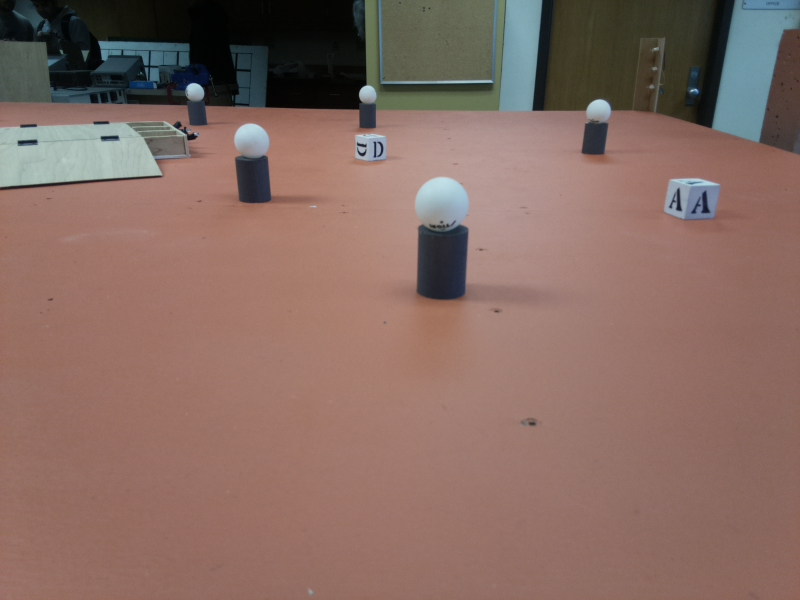blockD: (354, 133, 389, 163)
obstacle: (412, 176, 471, 302), (232, 121, 274, 204), (580, 99, 612, 156), (185, 81, 207, 127), (358, 83, 378, 127)
slope: (1, 135, 160, 193)
